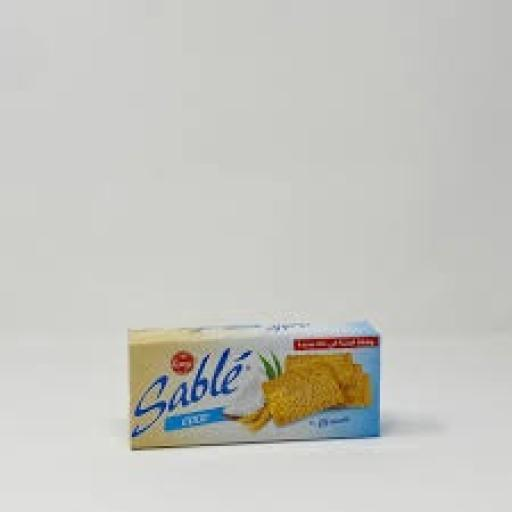sable: (95, 267, 443, 477)
